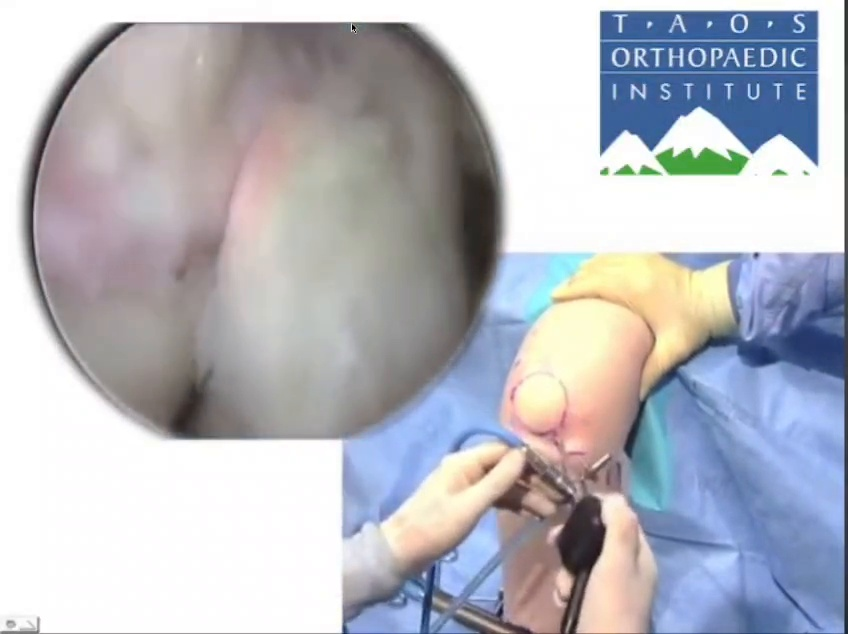probe: (757, 369, 848, 634)
